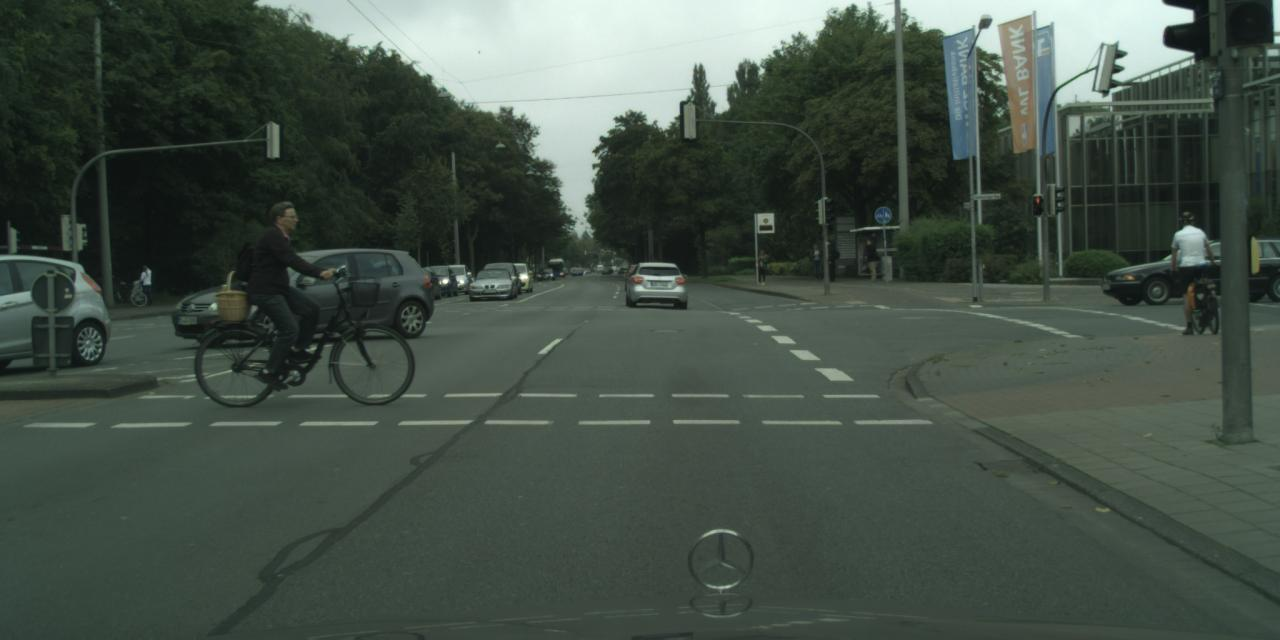ped: (250, 201, 321, 374), (1168, 212, 1216, 330), (862, 240, 879, 280), (821, 242, 837, 282), (138, 265, 154, 304), (809, 243, 824, 280), (754, 250, 768, 284)
